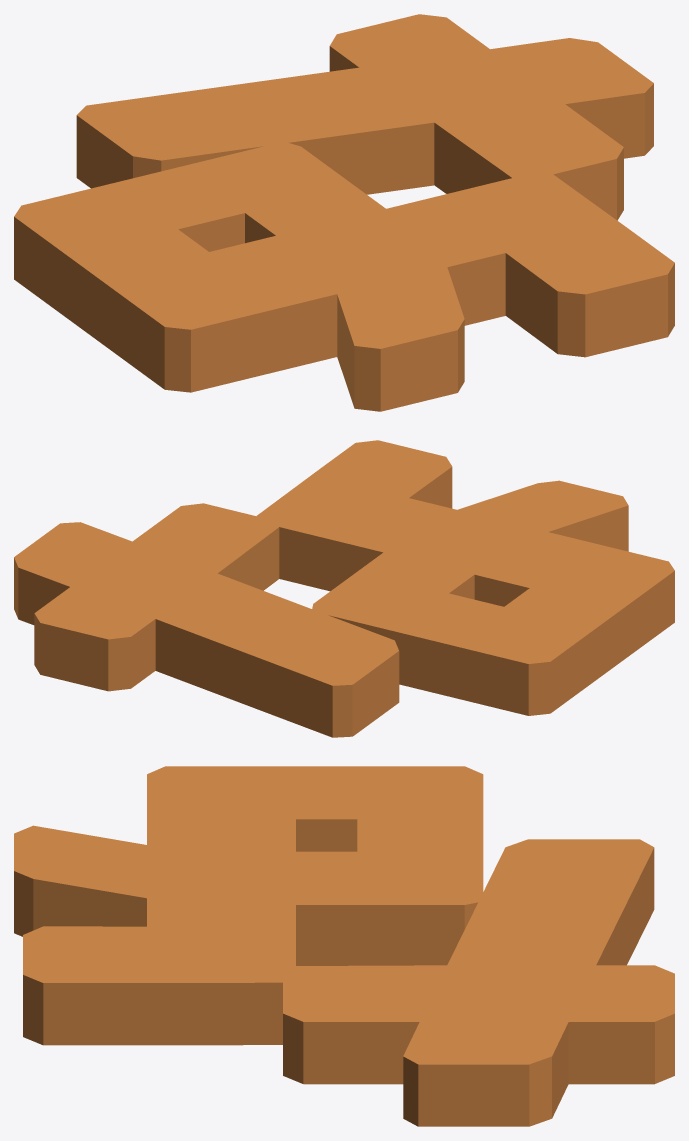
Rendered from Japanese_3D_01_な.FBX.
3 views of the same model, one above another, from view 1: azimuth 30°, elevation 25°; view 2: azimuth 150°, elevation 25°; view 3: azimuth 270°, elevation 25° (orthographic). The views are drawn at different scales.
Visible parts, largest first — view 1: Japanese_3D_01_な; view 2: Japanese_3D_01_な; view 3: Japanese_3D_01_な.
Part boxes in pixels (left/top/right/bottom): Japanese_3D_01_な: left=14, top=14, right=674, bottom=411; Japanese_3D_01_な: left=14, top=440, right=674, bottom=737; Japanese_3D_01_な: left=14, top=766, right=674, bottom=1126.
Size of the model in its own units: 77.02 by 7.5 by 72.12.
